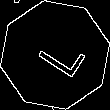L_NW: (25, 28, 85, 82)
